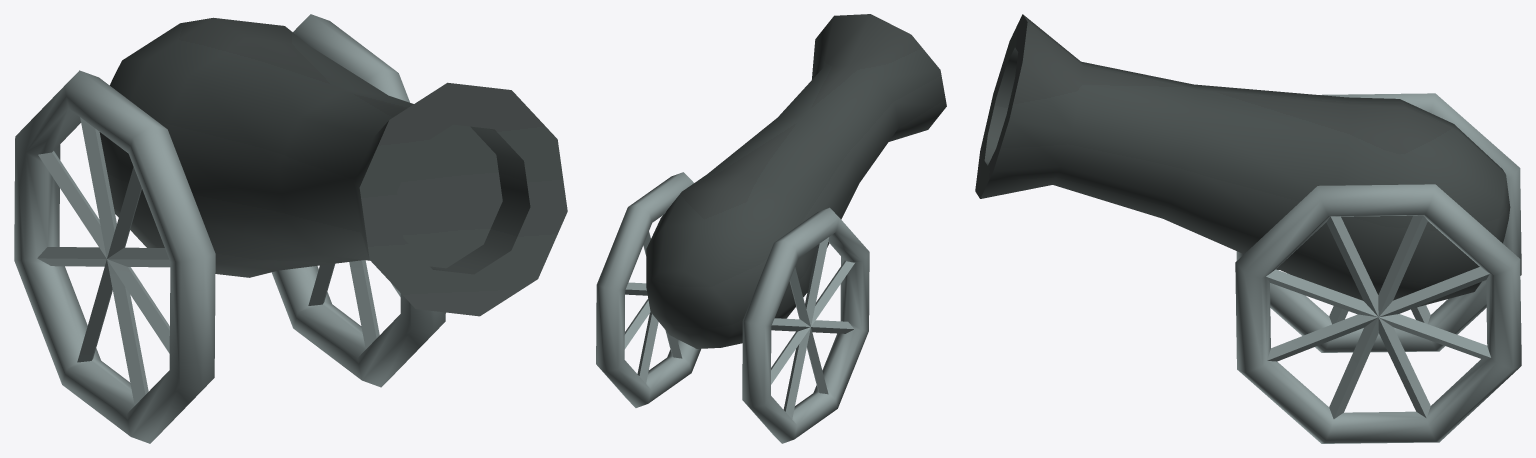
File: m_bg_canon_01.fbx
3 renders of one model, left to right at view 1: azimuth 30°, elevation 25°; view 2: azimuth 150°, elevation 25°; view 3: azimuth 270°, elevation 25°, orthographic. The views are drawn at different scales.
Parts seen in each view (by area): view 1: m_bg_canon_01; view 2: m_bg_canon_01; view 3: m_bg_canon_01.
Part boxes in pixels (<box>): m_bg_canon_01: <box>14,14,567,443</box>; m_bg_canon_01: <box>596,14,946,443</box>; m_bg_canon_01: <box>975,14,1521,443</box>.
Size of the model in its own units: 96.29 by 162 by 213.
